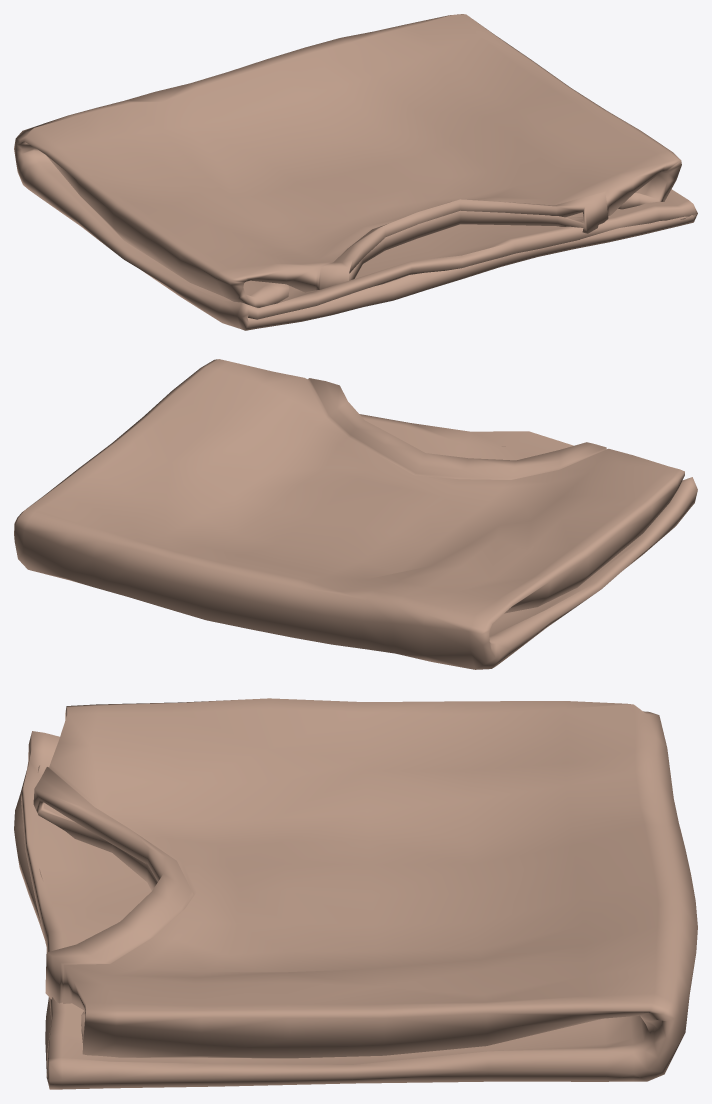
The model's file is Folded_T_Shirt26.fbx.
3 renders of one model, top to bottom at view 1: azimuth 30°, elevation 25°; view 2: azimuth 150°, elevation 25°; view 3: azimuth 270°, elevation 25°, orthographic. The views are drawn at different scales.
Parts seen in each view (by area): view 1: Folded_T_Shirt26; view 2: Folded_T_Shirt26; view 3: Folded_T_Shirt26.
Boxes of the visible parts, x1,y1,x2,y2 form: Folded_T_Shirt26: (14,14,697,330); Folded_T_Shirt26: (14,359,697,669); Folded_T_Shirt26: (14,698,697,1089).
Size of the model in its own units: 36.95 by 4.2 by 32.8.
Materials: 1 (1 with a texture image).
